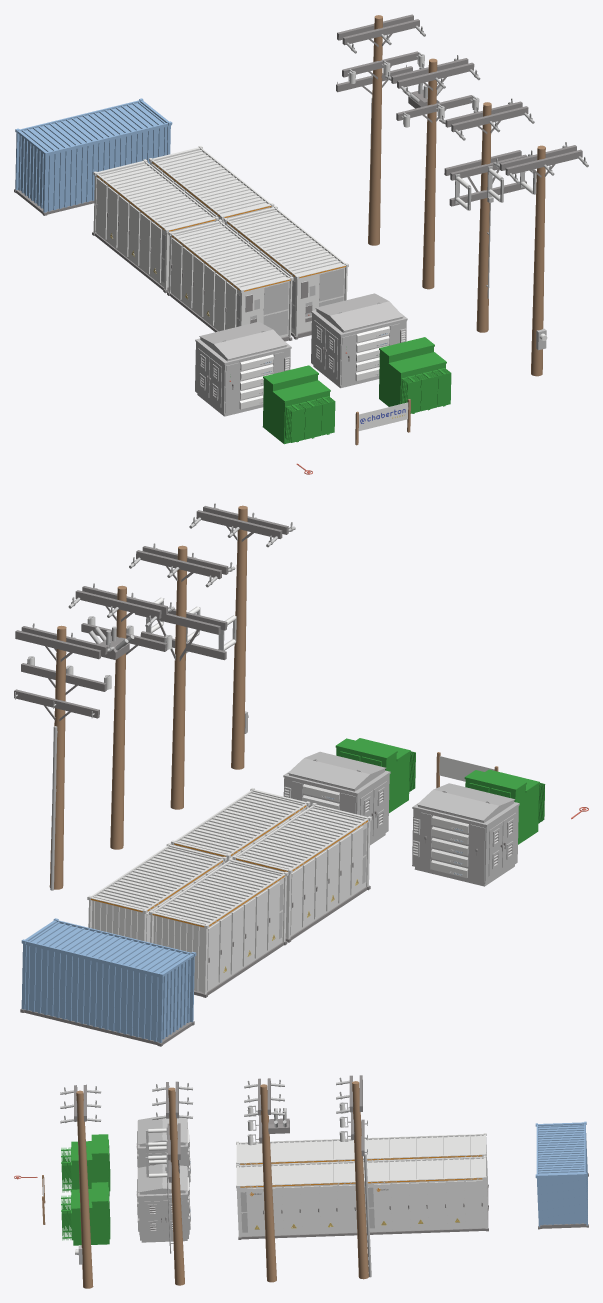
The model's file is Butterfield BESS Site FINAL.glb.
3 views of the same model, one above another, from view 1: azimuth 30°, elevation 25°; view 2: azimuth 150°, elevation 25°; view 3: azimuth 270°, elevation 25° (orthographic). The views are drawn at different scales.
Visible parts, largest first — view 1: Storage, DC Block 2, DC Block 4, DC Block 1, PCS 1, PCS 2, GOAB Pole, Riser Disconnect Pole, Recloser Pole, Transformer 2, DC Block 3, Transformer 1 (+2 smaller); view 2: Storage, DC Block 4, DC Block 2, PCS 2, GOAB Pole, DC Block 3, Riser Disconnect Pole, Recloser Pole, PCS 1, DC Block 1, Utility Meter Pole, Transformer 2 (+2 smaller); view 3: DC Block 3, DC Block 1, Storage, GOAB Pole, PCS 1, Riser Disconnect Pole, Recloser Pole, DC Block 4, DC Block 2, Utility Meter Pole, Transformer 1, Transformer 2 (+1 smaller).
Boxes of the visible parts, <box> form: Storage: <box>14,98,172,215</box>; DC Block 2: <box>167,219,293,341</box>; DC Block 4: <box>92,159,218,293</box>; DC Block 1: <box>223,206,348,339</box>; PCS 1: <box>311,293,407,388</box>; PCS 2: <box>195,321,291,416</box>; GOAB Pole: <box>439,98,536,332</box>; Riser Disconnect Pole: <box>336,14,425,245</box>; Recloser Pole: <box>385,55,480,289</box>; Transformer 2: <box>262,365,335,444</box>; DC Block 3: <box>149,146,274,223</box>; Transformer 1: <box>379,337,451,413</box>; Storage: <box>20,918,196,1046</box>; DC Block 4: <box>149,858,288,997</box>; DC Block 2: <box>232,803,371,942</box>; PCS 2: <box>412,783,519,886</box>; GOAB Pole: <box>129,543,236,809</box>; DC Block 3: <box>87,843,226,942</box>; Riser Disconnect Pole: <box>14,623,114,890</box>; Recloser Pole: <box>68,583,174,849</box>; PCS 1: <box>283,751,390,845</box>; DC Block 1: <box>171,788,310,862</box>; Utility Meter Pole: <box>189,503,295,769</box>; Transformer 2: <box>464,769,545,844</box>; DC Block 3: <box>363,1155,488,1234</box>; DC Block 1: <box>236,1161,357,1239</box>; Storage: <box>535,1121,588,1229</box>; GOAB Pole: <box>145,1081,193,1285</box>; PCS 1: <box>136,1164,190,1242</box>; Riser Disconnect Pole: <box>336,1075,371,1279</box>; Recloser Pole: <box>244,1078,289,1282</box>; DC Block 4: <box>363,1133,488,1207</box>; DC Block 2: <box>236,1138,354,1165</box>; Utility Meter Pole: <box>60,1084,101,1288</box>; Transformer 1: <box>61,1182,110,1245</box>; Transformer 2: <box>61,1134,110,1195</box>.
Bounding box in the file's own units: 15.64 × 11.33 × 28.58.
